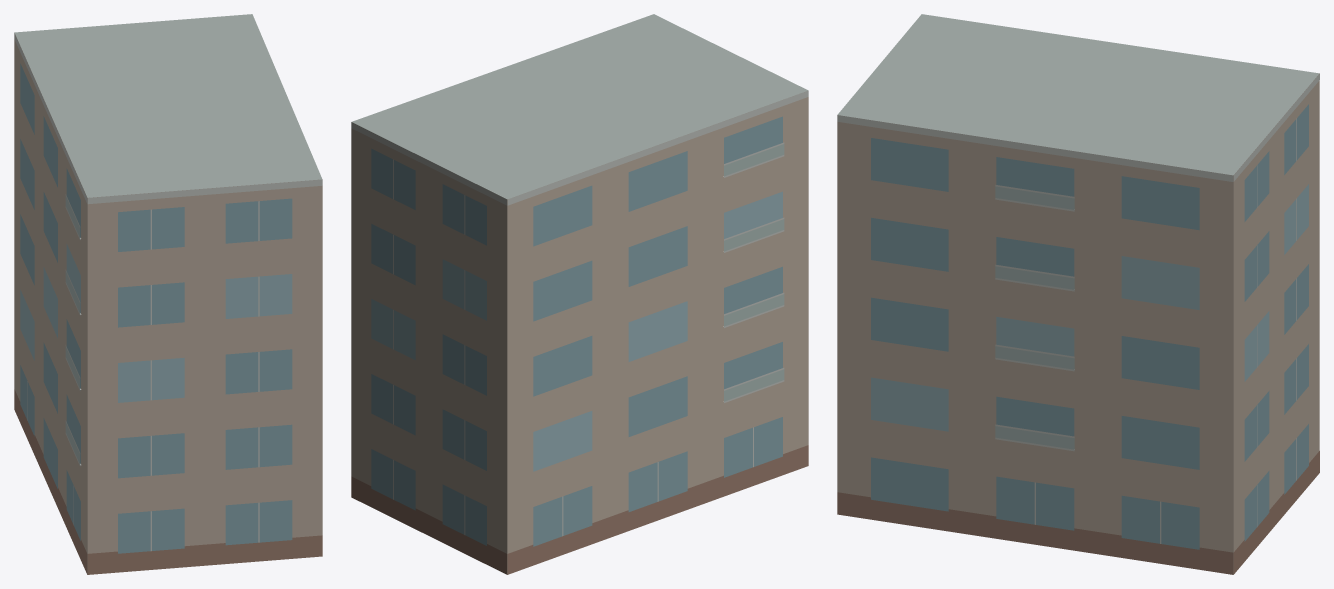
Rendered from survey-upis-32883397.glb.
The picture shows the model from 3 angles, left to right: view 1: azimuth 30°, elevation 25°; view 2: azimuth 150°, elevation 25°; view 3: azimuth 270°, elevation 25°; orthographic projection. The views are drawn at different scales.
Visible parts, largest first — view 1: survey-upis-32883397.tmp; view 2: survey-upis-32883397.tmp; view 3: survey-upis-32883397.tmp.
Boxes of the visible parts, x1,y1,x2,y2 form: survey-upis-32883397.tmp: (14, 14, 322, 574); survey-upis-32883397.tmp: (351, 14, 808, 574); survey-upis-32883397.tmp: (837, 14, 1319, 574).
Size of the model in its own units: 12.53 by 14.45 by 15.83.
